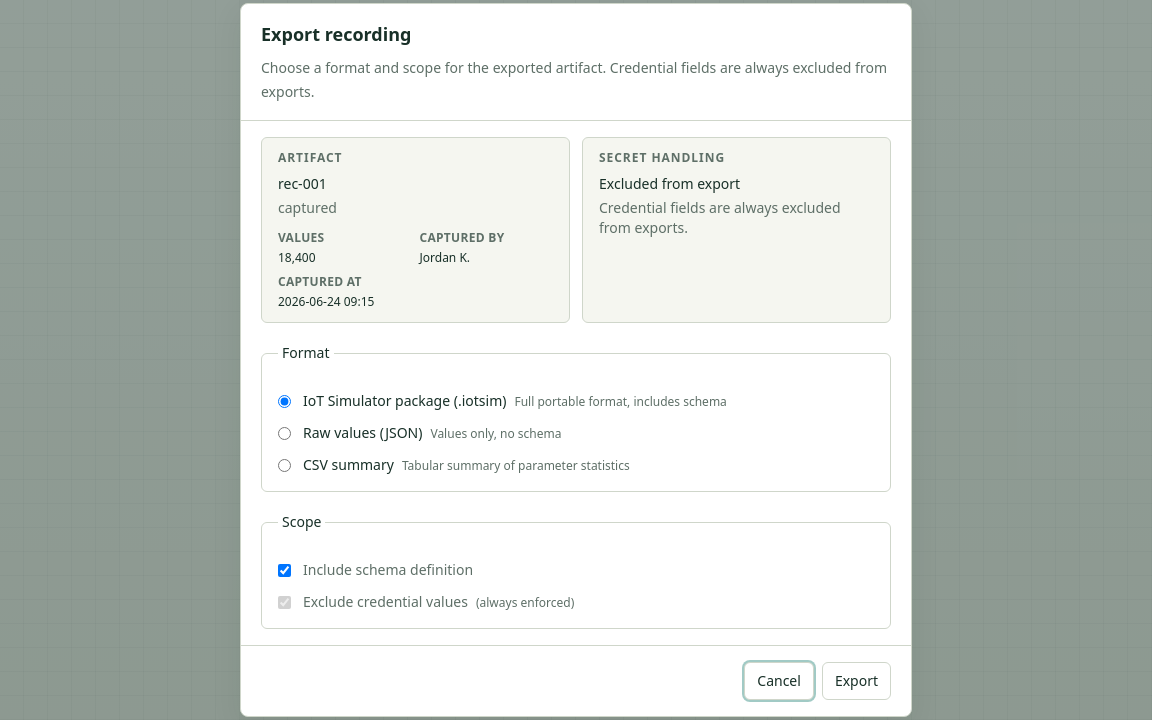
it: RecordingExportDialog — CSV format disables include-schema › disables Include schema definition checkbox when CSV format is selected
Click the radio button showing "csv".
click(284, 466)  # box [278, 459, 291, 472]
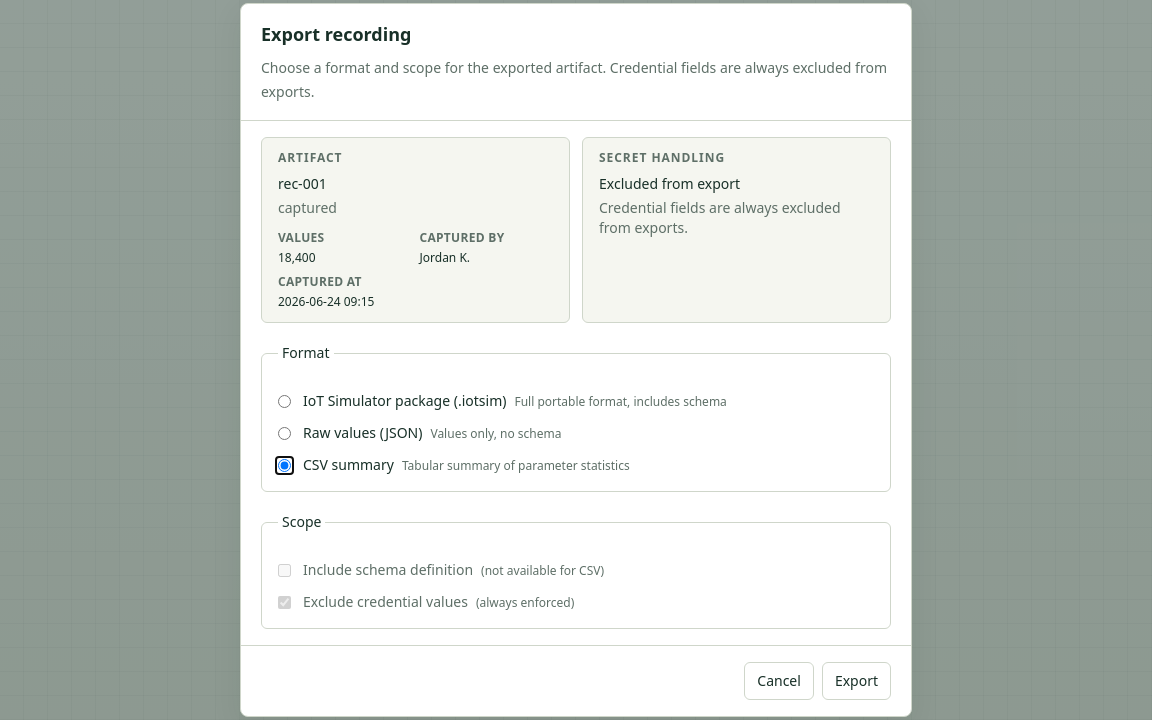
Expected: the checkbox labelled "Include schema definition(not available for CSV)" is disabled, [278, 564, 291, 577]
